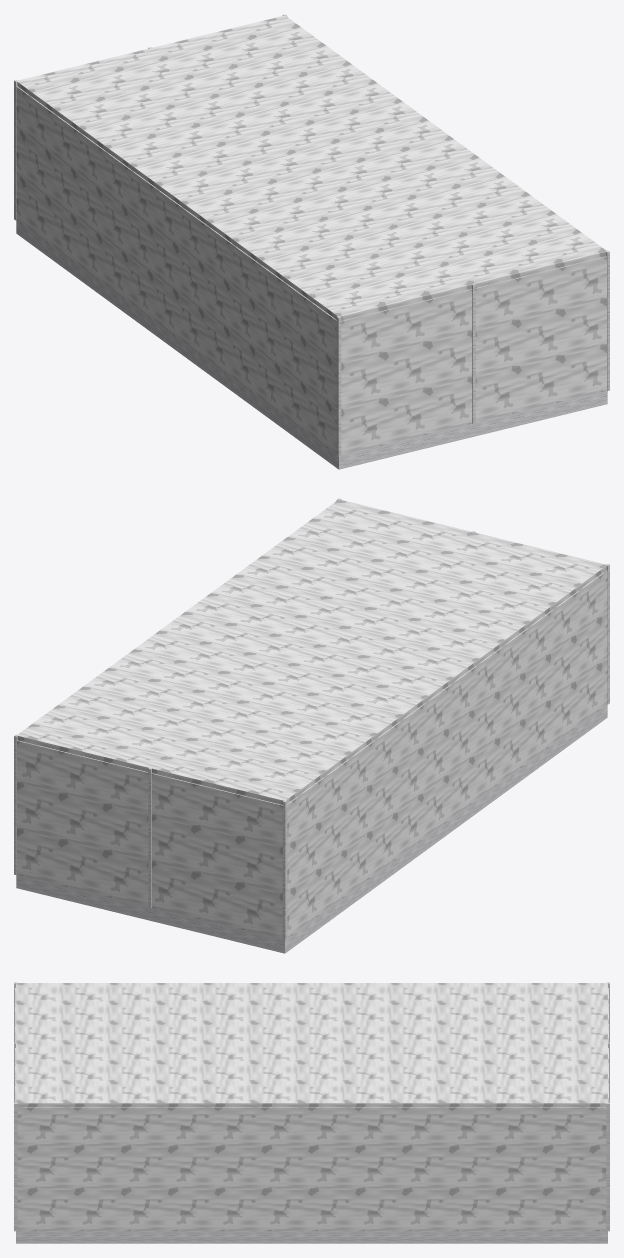
The model's file is serra_1086637700.obj.
3 views of the same model, one above another, from view 1: azimuth 30°, elevation 25°; view 2: azimuth 150°, elevation 25°; view 3: azimuth 270°, elevation 25° (orthographic). The views are drawn at different scales.
Visible parts, largest first — view 1: serra_1086637700; view 2: serra_1086637700; view 3: serra_1086637700.
Boxes of the visible parts, left/top/right/bottom form: serra_1086637700: left=14, top=14, right=609, bottom=469; serra_1086637700: left=14, top=498, right=609, bottom=953; serra_1086637700: left=14, top=982, right=609, bottom=1243.
Size of the model in its own units: 6.14 by 3.3 by 12.72.
4 materials, 4 textured.
